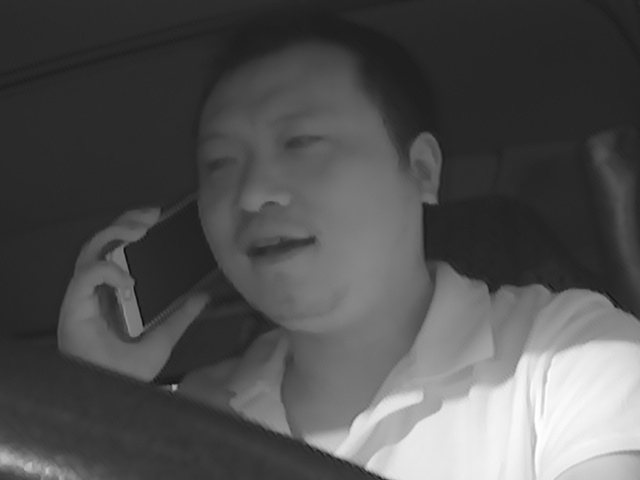hand: (60, 197, 200, 375)
